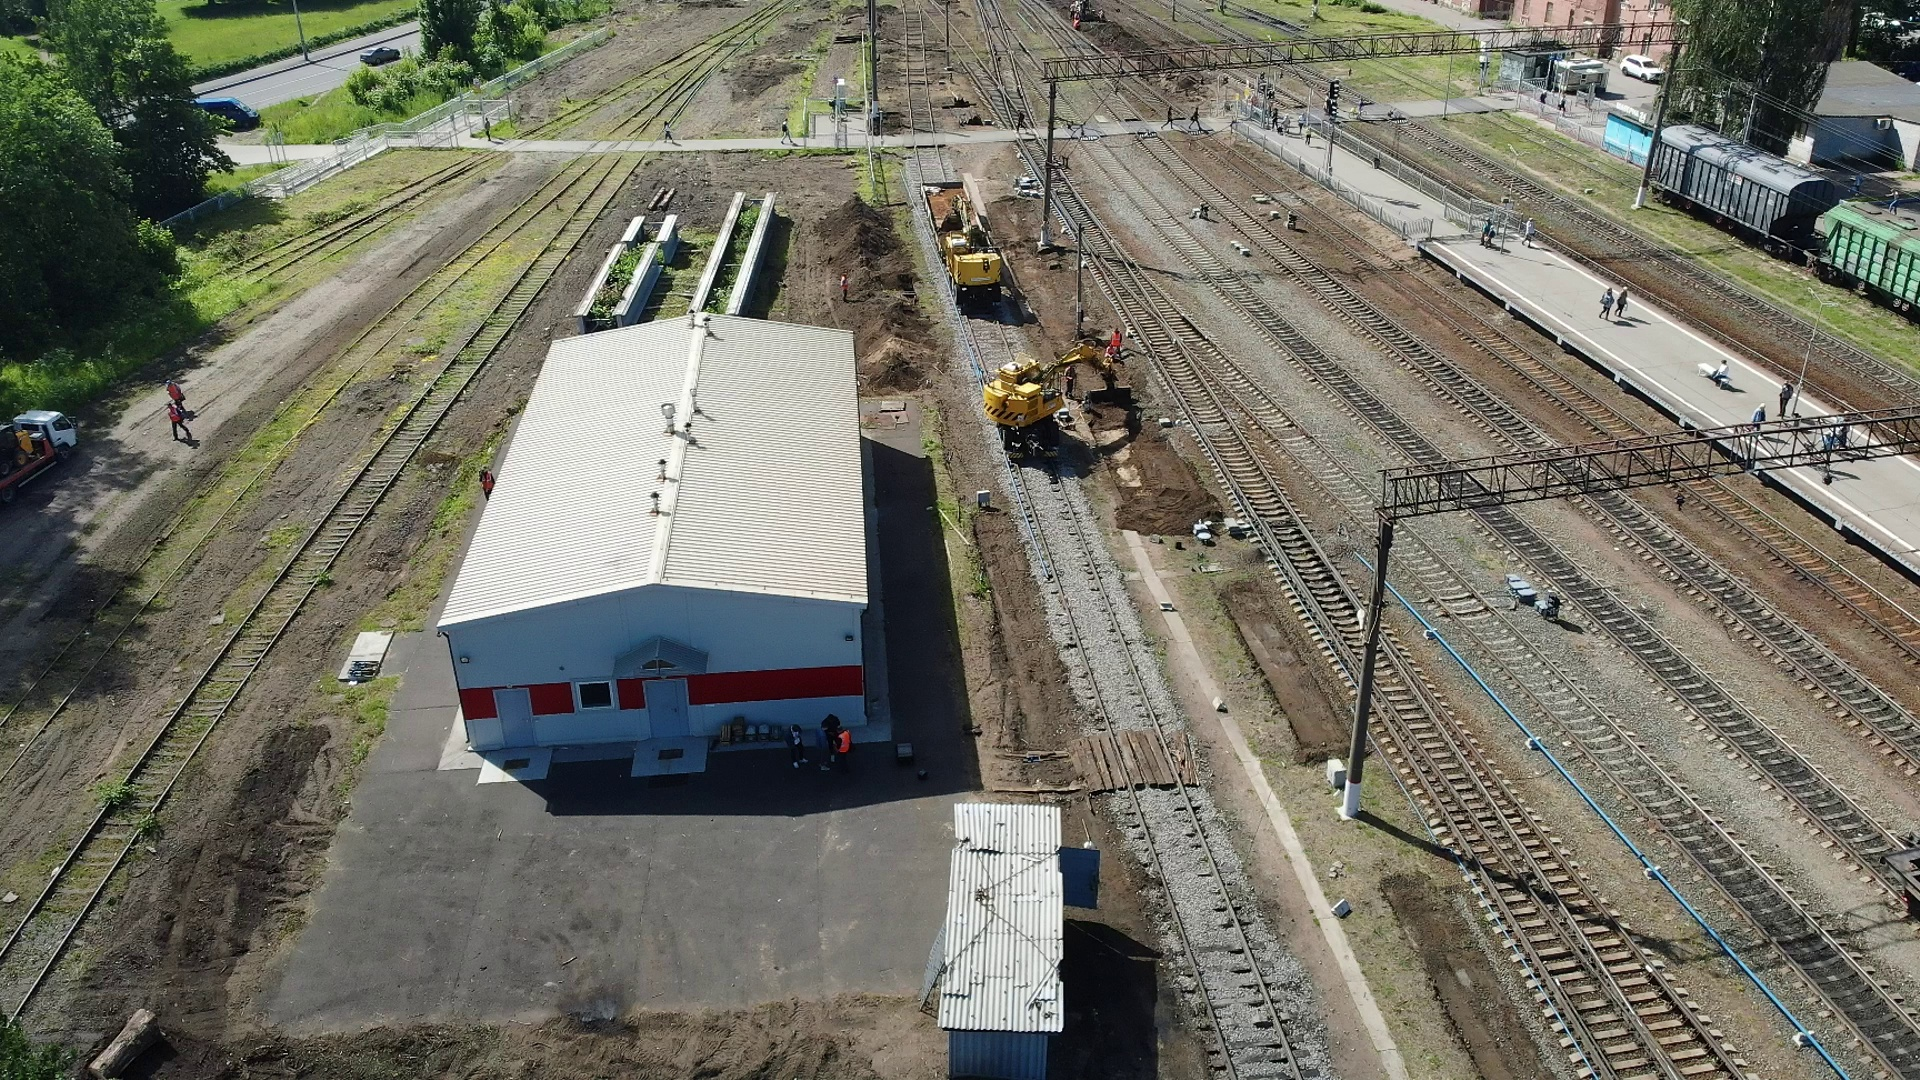kjtv: (981, 347, 1092, 458), (920, 178, 1009, 311)
